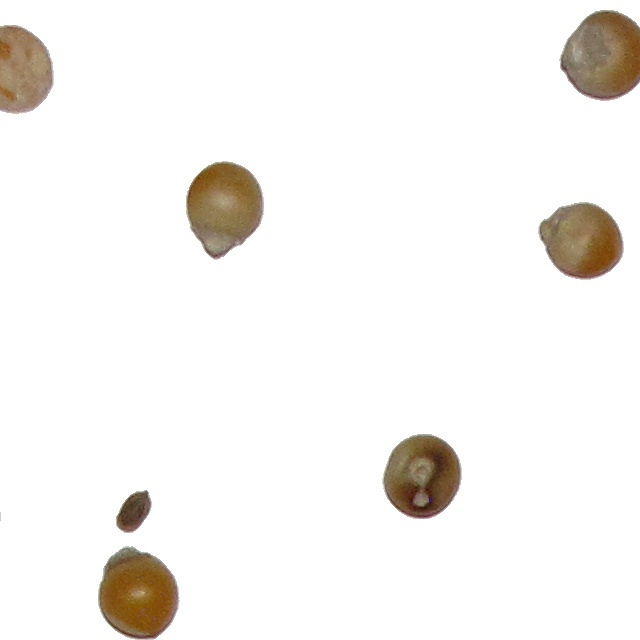buckwheat: (115, 489, 153, 534)
mais: (185, 160, 265, 261), (97, 545, 181, 640), (558, 9, 640, 102), (381, 433, 463, 520), (537, 201, 625, 281)
